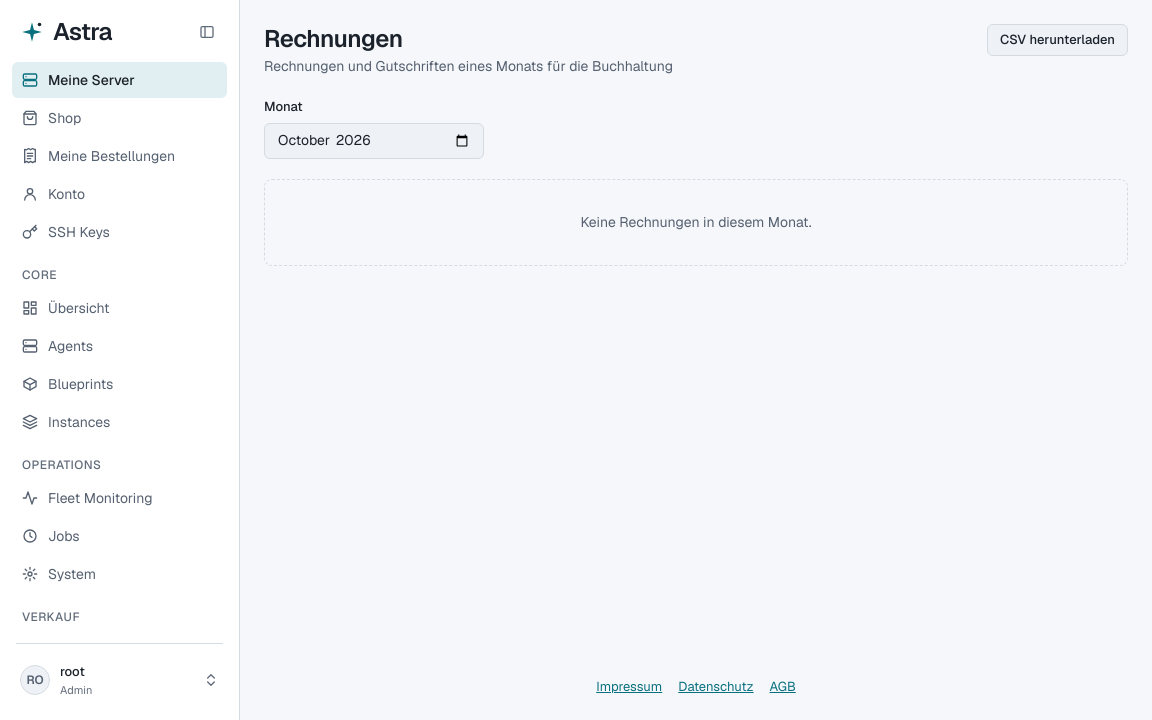
AdminInvoicesPage › zeigt Leerzustand und Fehler mit Wiederholen
Expected: the text "Keine Rechnungen in diesem Monat." is shown, [264,178,1128,266]
Replace the text in the field labelled "Monat" with "2026-09". click: x=374, y=140
box: [264,122,484,158]
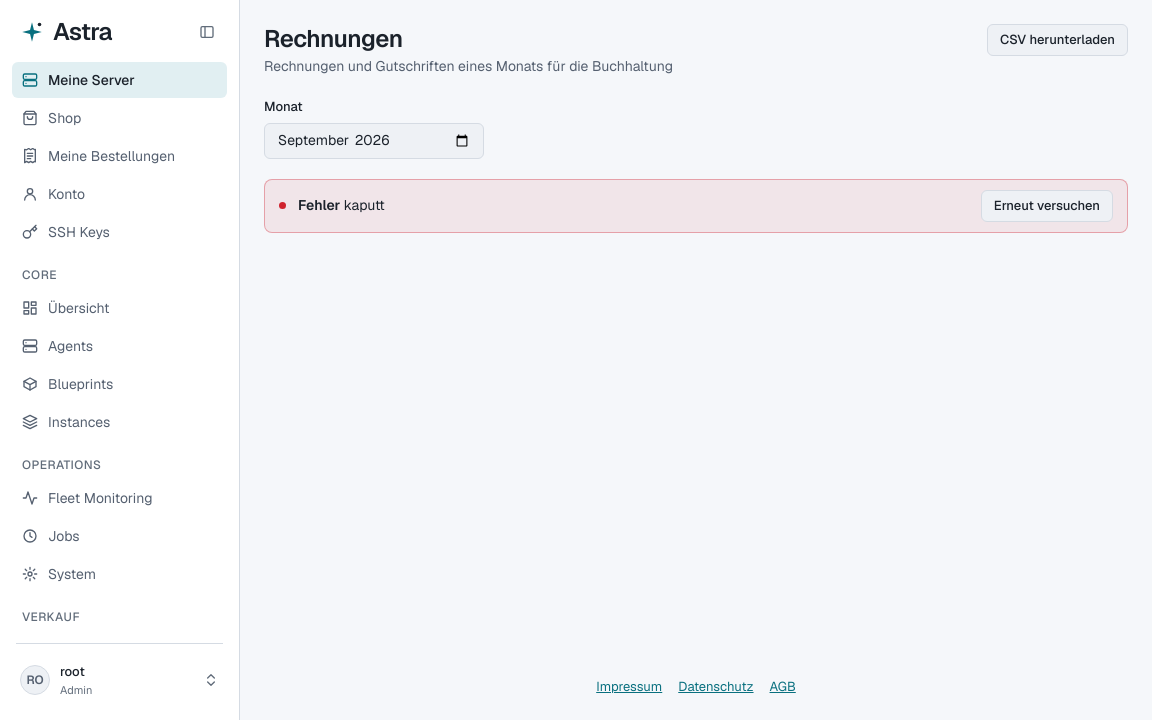
Now the message shows "kaputt", box [344,196,385,214]
Click the button "Erneut versuchen". click: x=1047, y=206
box: [981,190,1113,222]
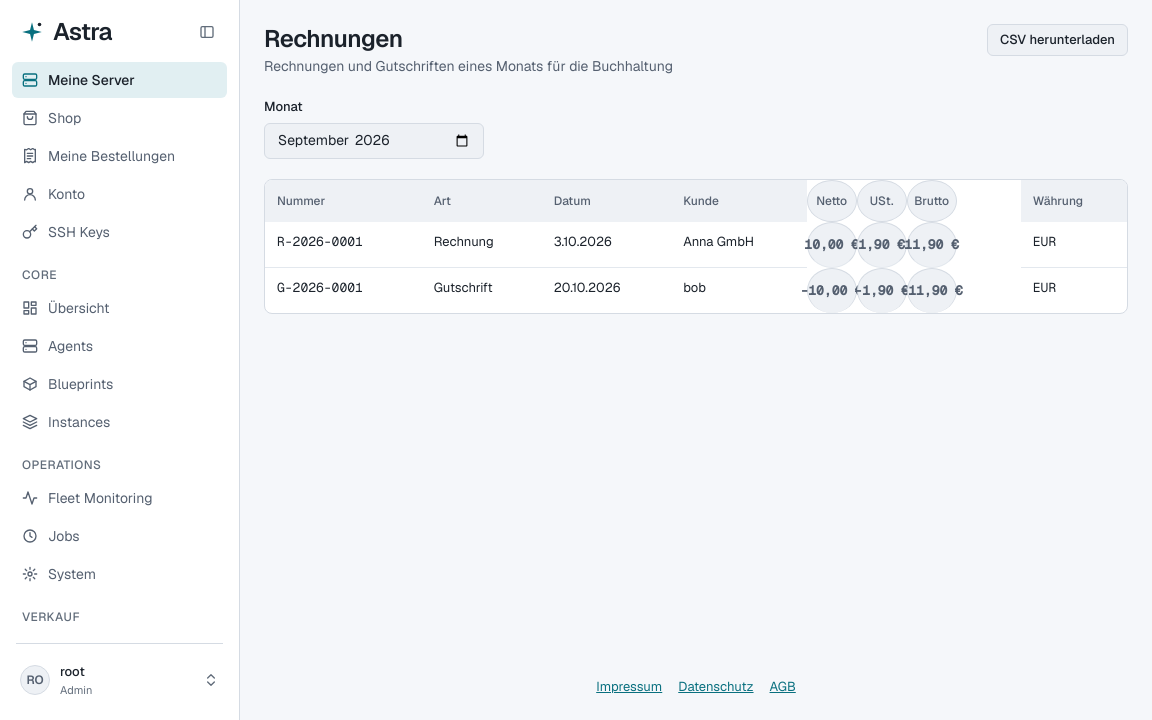
Now the table is shown, box [265,180,1127,312]
